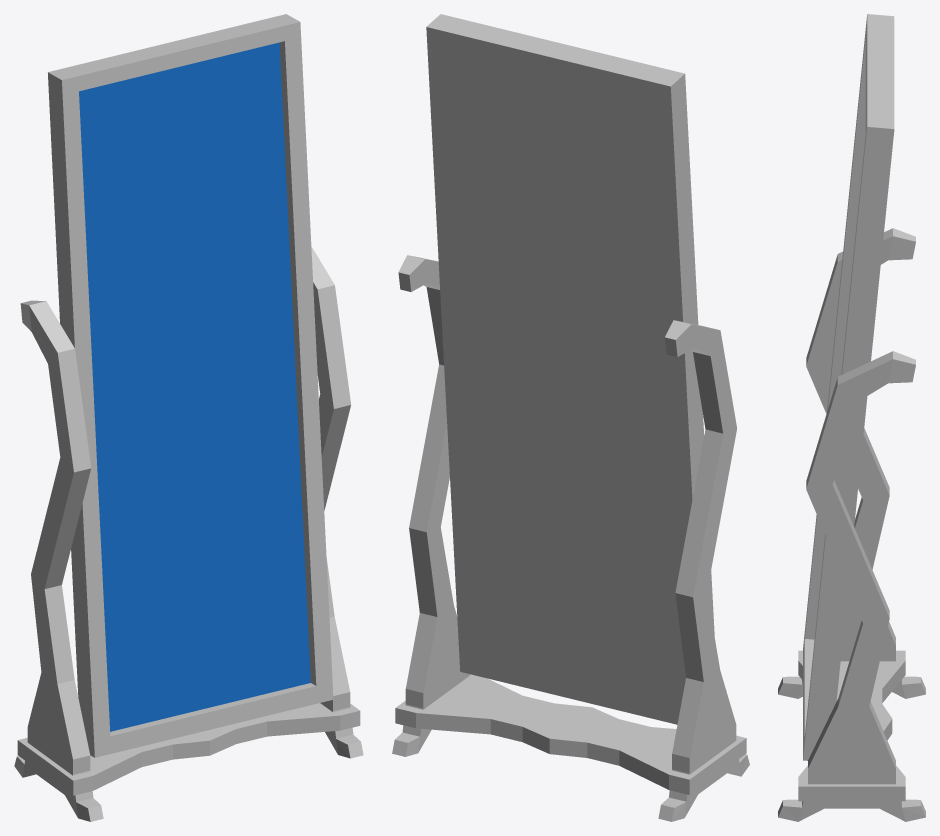
File: SM_mirror_1.fbx
3 renders of one model, left to right at view 1: azimuth 30°, elevation 25°; view 2: azimuth 150°, elevation 25°; view 3: azimuth 270°, elevation 25°, orthographic. The views are drawn at different scales.
Visible parts, largest first — view 1: Symmetry_2; view 2: Symmetry_2; view 3: Symmetry_2.
Part boxes in pixels (x1,y1,x2,y2): Symmetry_2: (14,14,363,821); Symmetry_2: (392,14,749,821); Symmetry_2: (778,14,925,821).
Bounding box in the file's own units: 72.12 × 170 × 33.17.
